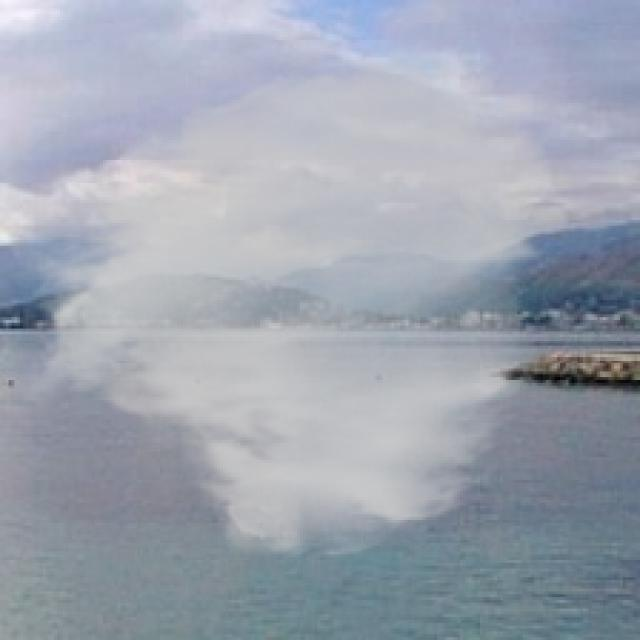Smoke: (11, 48, 566, 563)
